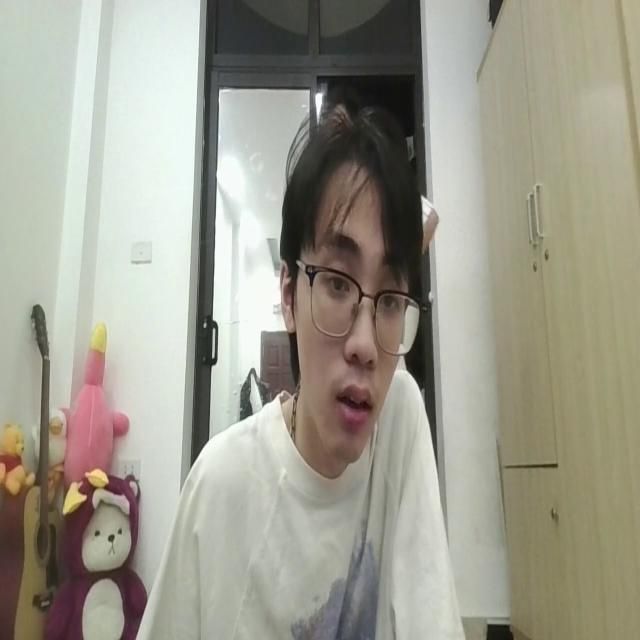student: (136, 99, 462, 640)
